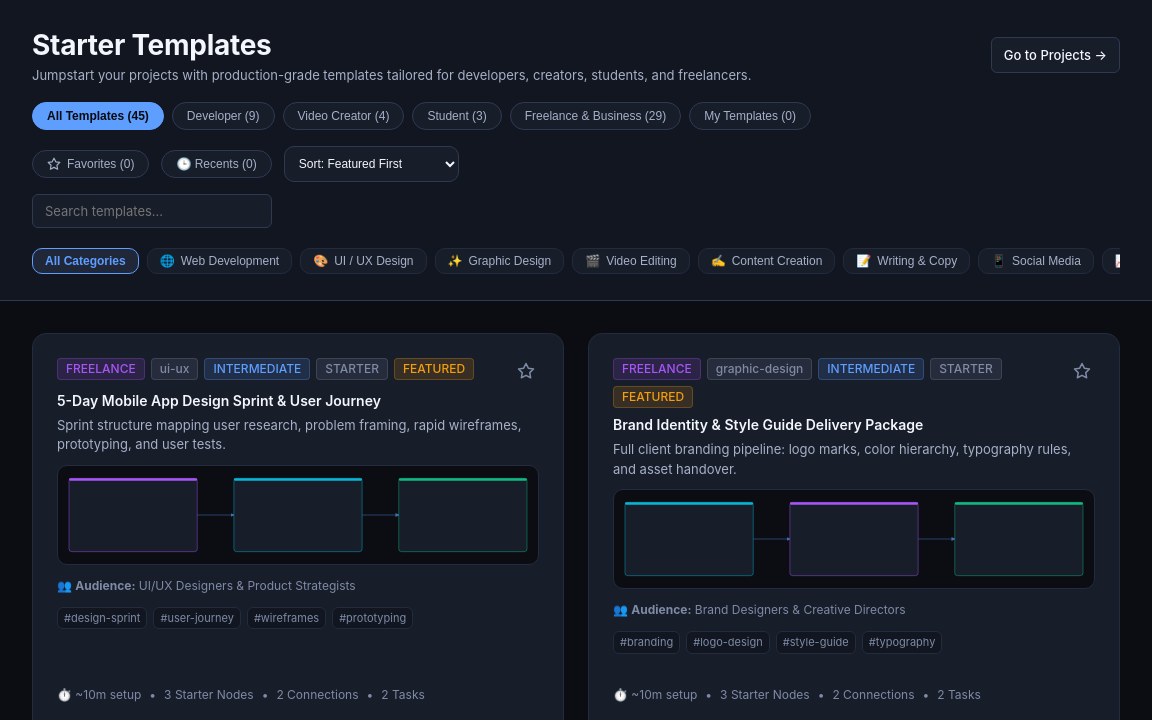
Test: Template Gallery View Integration › filters templates when clicking workspace filter pills
Click the tab "Freelance & Business (29)" at (596, 116), box left=510, top=102, right=681, bottom=130
(page scrolled)
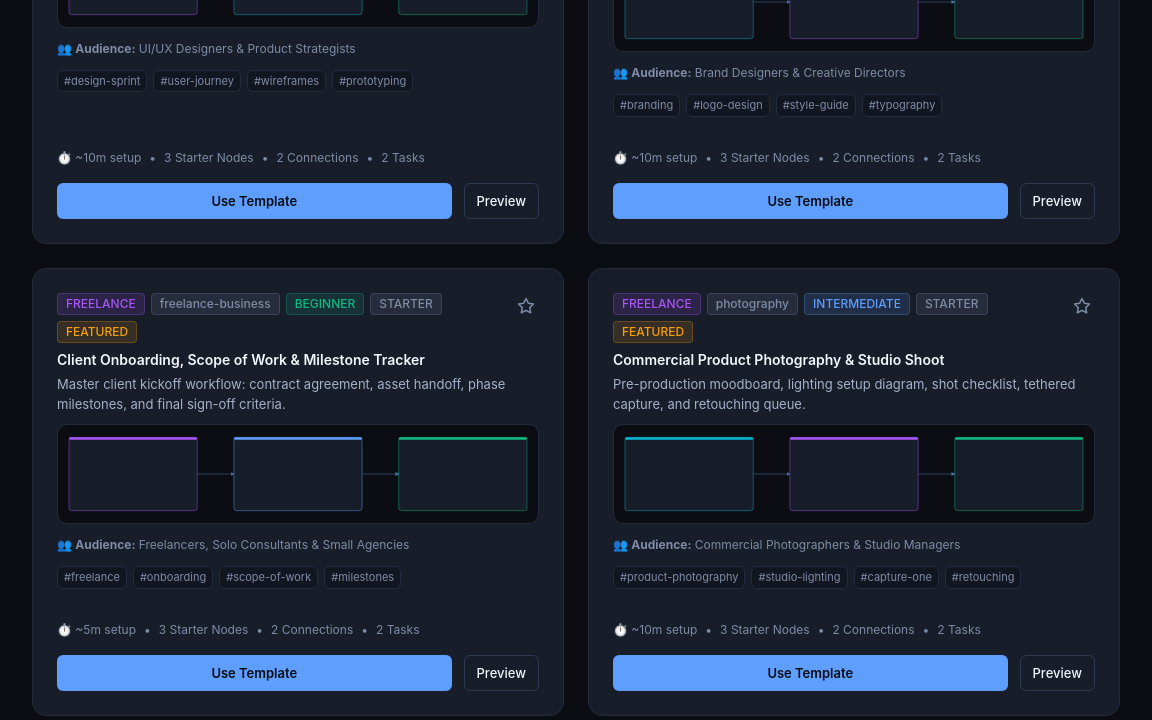
Now the heading "Client Onboarding, Scope of Work & Milestone Tracker" is shown, box left=57, top=351, right=425, bottom=368
